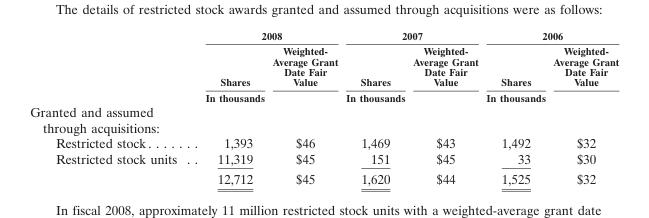table: (29, 28, 618, 186)
table column: (29, 28, 190, 186), (190, 28, 268, 186), (268, 28, 341, 186), (408, 28, 481, 186), (549, 28, 618, 186), (481, 28, 549, 186), (341, 28, 408, 186)
table column header: (29, 28, 618, 103)
table projected row header: (29, 103, 618, 134)
table row: (29, 42, 618, 103), (29, 103, 618, 134), (29, 150, 618, 168), (29, 168, 618, 186), (29, 134, 618, 150), (29, 28, 618, 42)
table spanning cell: (190, 28, 341, 42), (341, 28, 481, 42), (481, 28, 618, 42)
